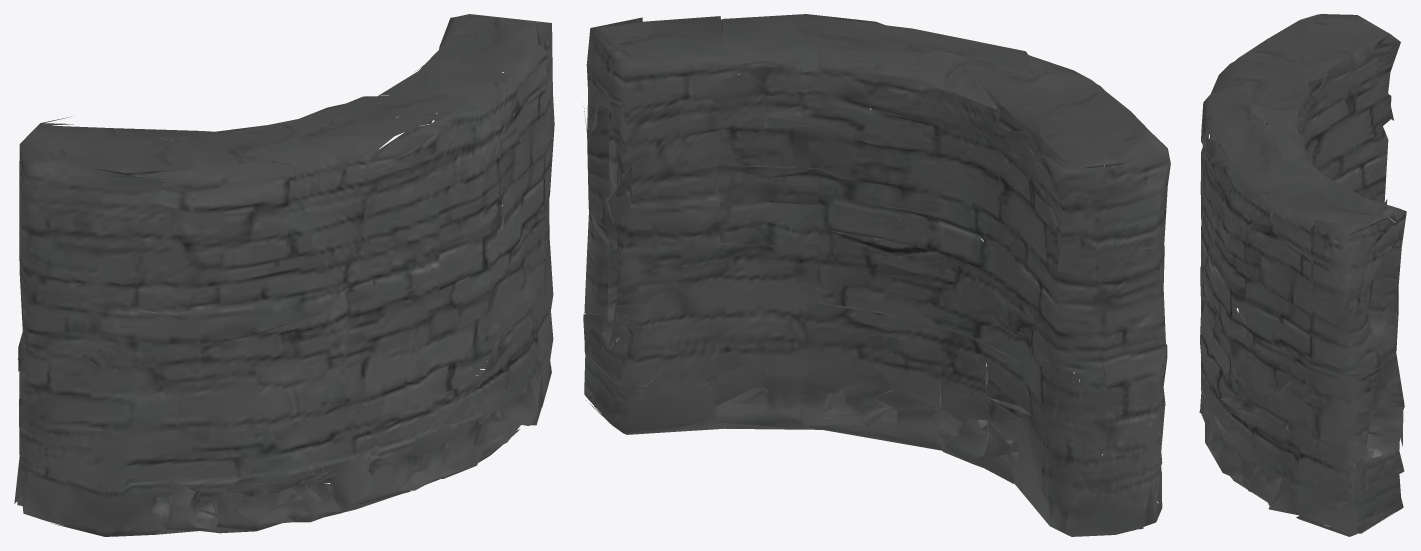
File: dungeon curved wall.glb
3 views of the same model, side by side, from view 1: azimuth 30°, elevation 25°; view 2: azimuth 150°, elevation 25°; view 3: azimuth 270°, elevation 25° (orthographic). The views are drawn at different scales.
Visible parts, largest first — view 1: Mesh_0; view 2: Mesh_0; view 3: Mesh_0.
Part boxes in pixels (<box>): Mesh_0: <box>14,14,554,536</box>; Mesh_0: <box>583,14,1170,536</box>; Mesh_0: <box>1199,14,1406,536</box>.
Bounding box in the file's own units: 0.5074 × 0.3264 × 0.1972.
1 material, 1 textured.
